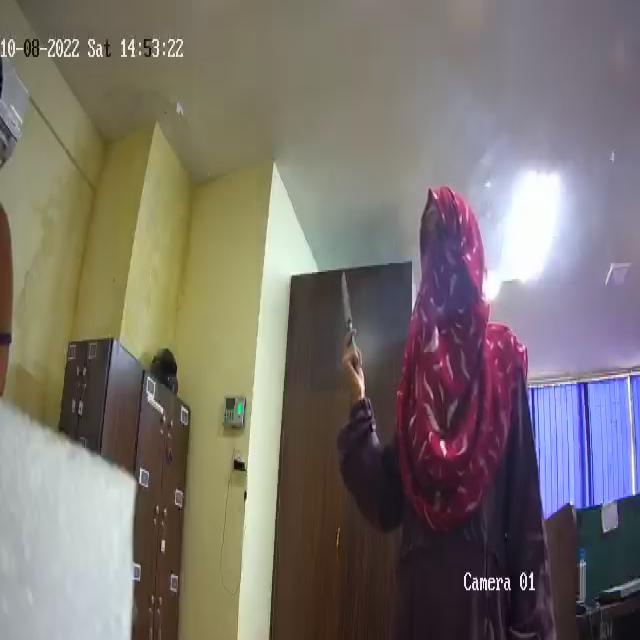Knife: (339, 265, 360, 377)
